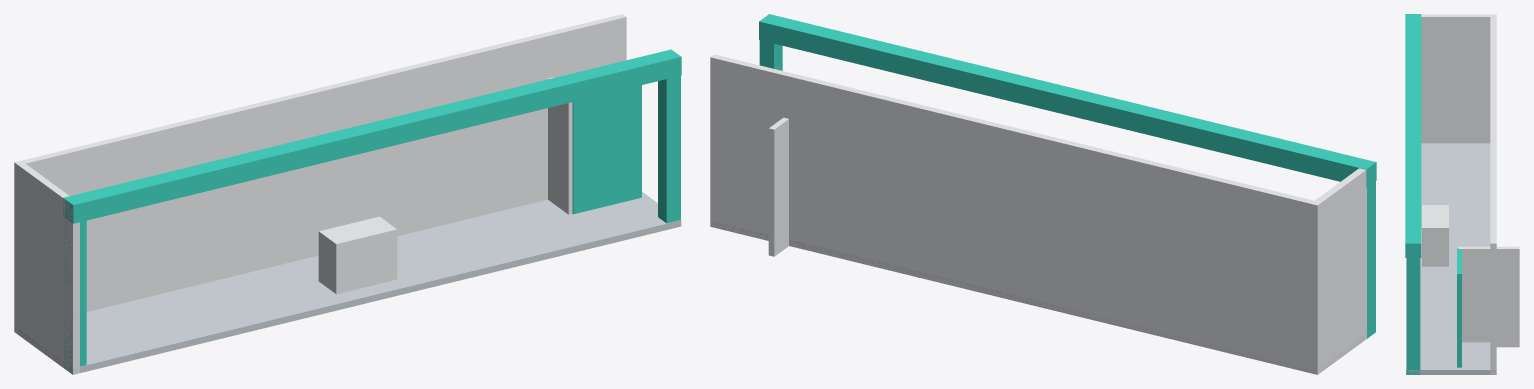
3 views of the same model, side by side, from view 1: azimuth 30°, elevation 25°; view 2: azimuth 150°, elevation 25°; view 3: azimuth 270°, elevation 25° (orthographic). The views are drawn at different scales.
Visible parts, largest first — view 1: Exhibition Booth Concept; view 2: Exhibition Booth Concept; view 3: Exhibition Booth Concept.
Part boxes in pixels (x1,y1,x2,y2): Exhibition Booth Concept: (14, 14, 681, 374); Exhibition Booth Concept: (710, 14, 1376, 374); Exhibition Booth Concept: (1405, 14, 1519, 374).
Bounding box in the file's own units: 12 × 3.2 × 2.52.
